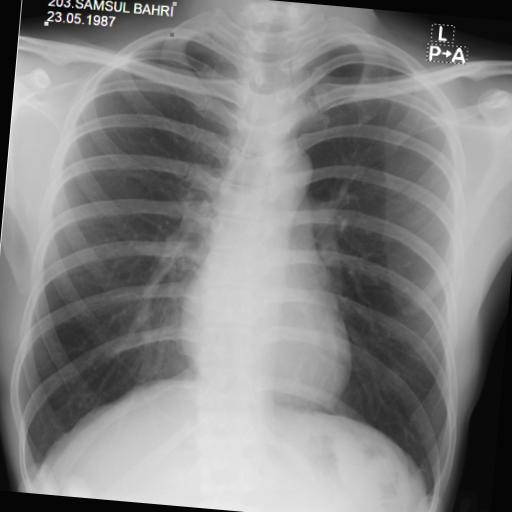normal: (0, 15, 498, 512)
